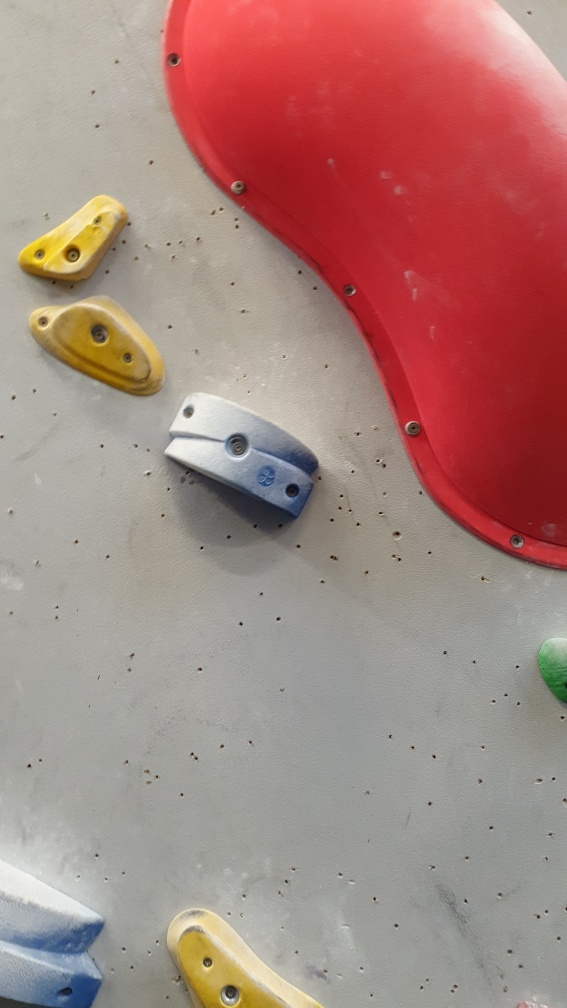Crimp: (168, 921, 296, 1008), (47, 300, 155, 388), (38, 205, 131, 286)
Pinch: (165, 388, 320, 516), (1, 849, 119, 1005)
